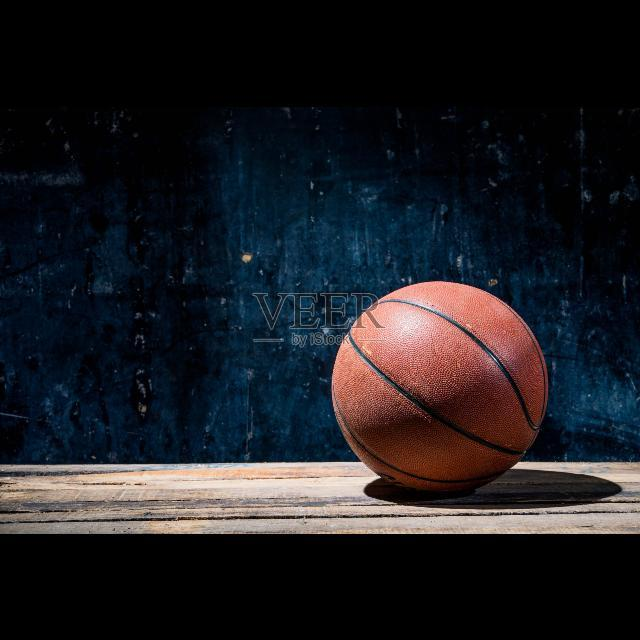basketball: (333, 281, 547, 489)
